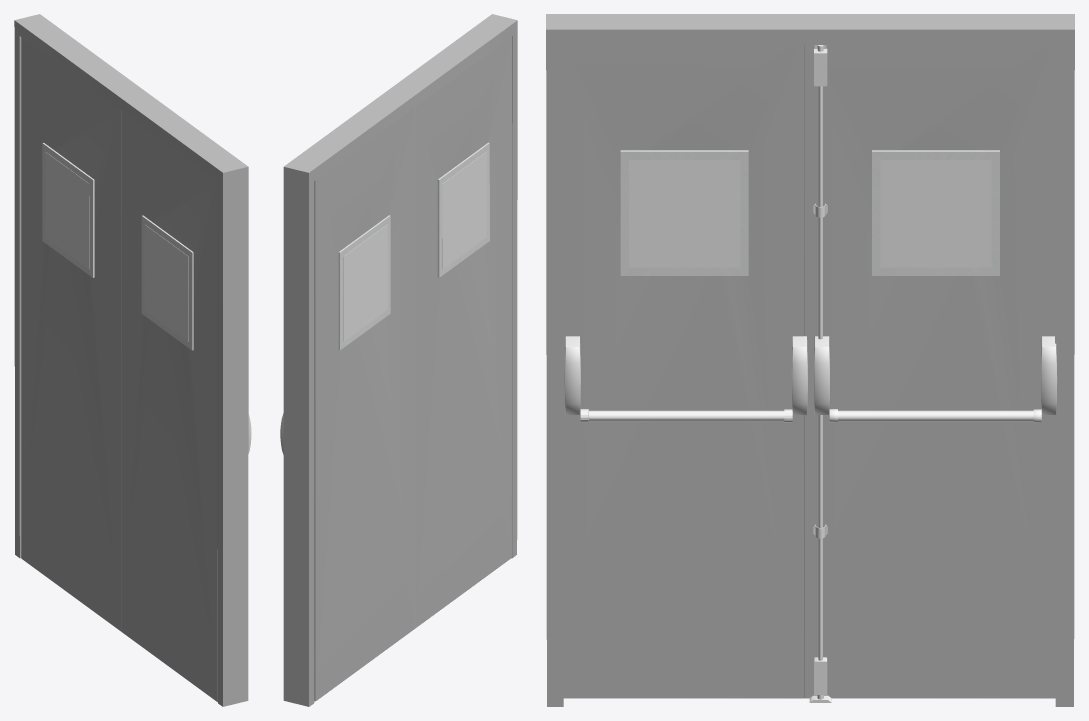
File: double_doors_fire.fbx
3 renders of one model, left to right at view 1: azimuth 30°, elevation 25°; view 2: azimuth 150°, elevation 25°; view 3: azimuth 270°, elevation 25°, orthographic. The views are drawn at different scales.
Parts seen in each view (by area): view 1: DOOR_2, DOOR_1, FRAME, Plane002, Plane001.001; view 2: DOOR_2, DOOR_1, FRAME, Plane001.001, Plane002; view 3: DOOR_2, DOOR_1, FRAME, Box002.001, Plane001.001, Plane002, Cylinder002, Box003, Cylinder003.
Boxes of the visible parts, x1,y1,x2,y2 form: DOOR_2: [21, 37, 121, 631]; DOOR_1: [121, 110, 217, 702]; FRAME: [14, 14, 248, 706]; Plane002: [42, 143, 94, 277]; Plane001.001: [141, 215, 193, 350]; DOOR_2: [314, 107, 415, 701]; DOOR_1: [415, 36, 511, 627]; FRAME: [283, 14, 517, 706]; Plane001.001: [437, 142, 489, 277]; Plane002: [338, 215, 390, 350]; DOOR_2: [804, 45, 1055, 698]; DOOR_1: [563, 45, 804, 698]; FRAME: [546, 14, 1074, 706]; Box002.001: [564, 336, 807, 422]; Plane001.001: [620, 150, 748, 275]; Plane002: [872, 150, 999, 275]; Cylinder002: [829, 409, 1041, 422]; Box003: [814, 336, 1057, 414]; Cylinder003: [817, 45, 823, 699].
Size of the model in its own units: 18.38 by 249 by 176.
